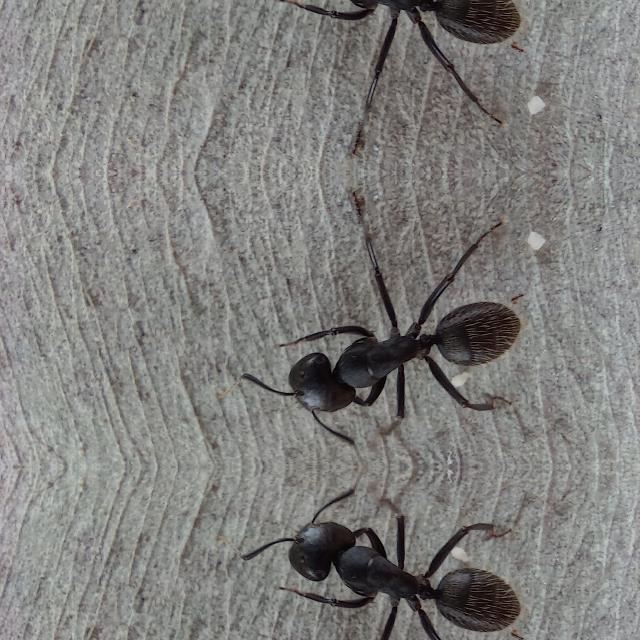Camponotus: (251, 286, 549, 429), (251, 502, 549, 640), (251, 0, 549, 56)
